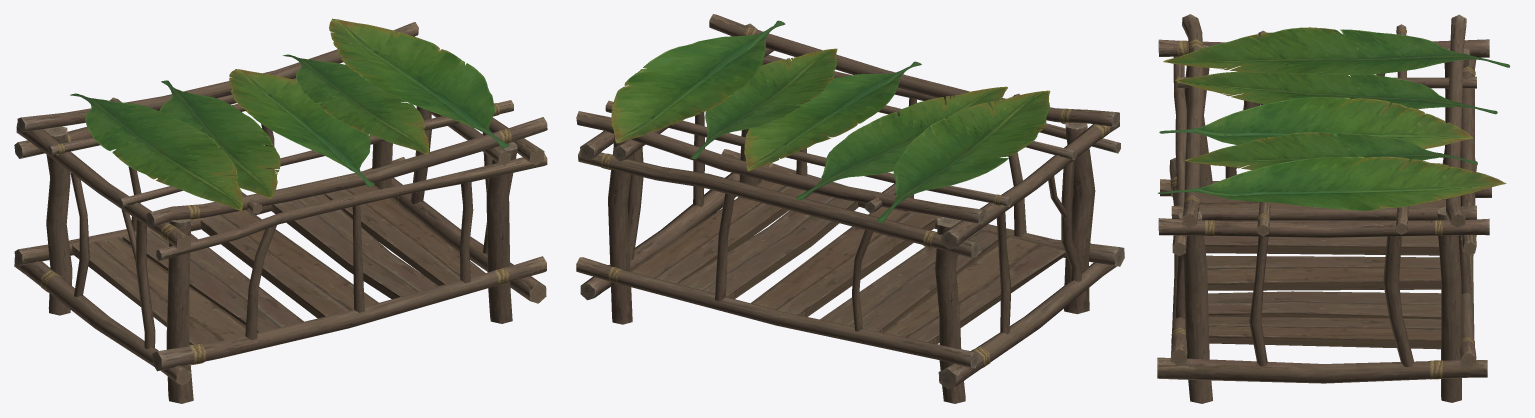
The model's file is Homeworld_Exterior_Xm_Decoration_Prop_Yezijia_01_Lod0.fbx.
The picture shows the model from 3 angles, left to right: view 1: azimuth 30°, elevation 25°; view 2: azimuth 150°, elevation 25°; view 3: azimuth 270°, elevation 25°; orthographic projection. The views are drawn at different scales.
Visible parts, largest first — view 1: Area_Xm_Prop_Common_Yewaijiazi_01_Lod0; view 2: Area_Xm_Prop_Common_Yewaijiazi_01_Lod0; view 3: Area_Xm_Prop_Common_Yewaijiazi_01_Lod0.
Boxes of the visible parts, x1,y1,x2,y2 form: Area_Xm_Prop_Common_Yewaijiazi_01_Lod0: (14, 18, 547, 403); Area_Xm_Prop_Common_Yewaijiazi_01_Lod0: (576, 14, 1124, 403); Area_Xm_Prop_Common_Yewaijiazi_01_Lod0: (1157, 14, 1510, 403).
Size of the model in its own units: 2.18 by 1.07 by 1.69.
